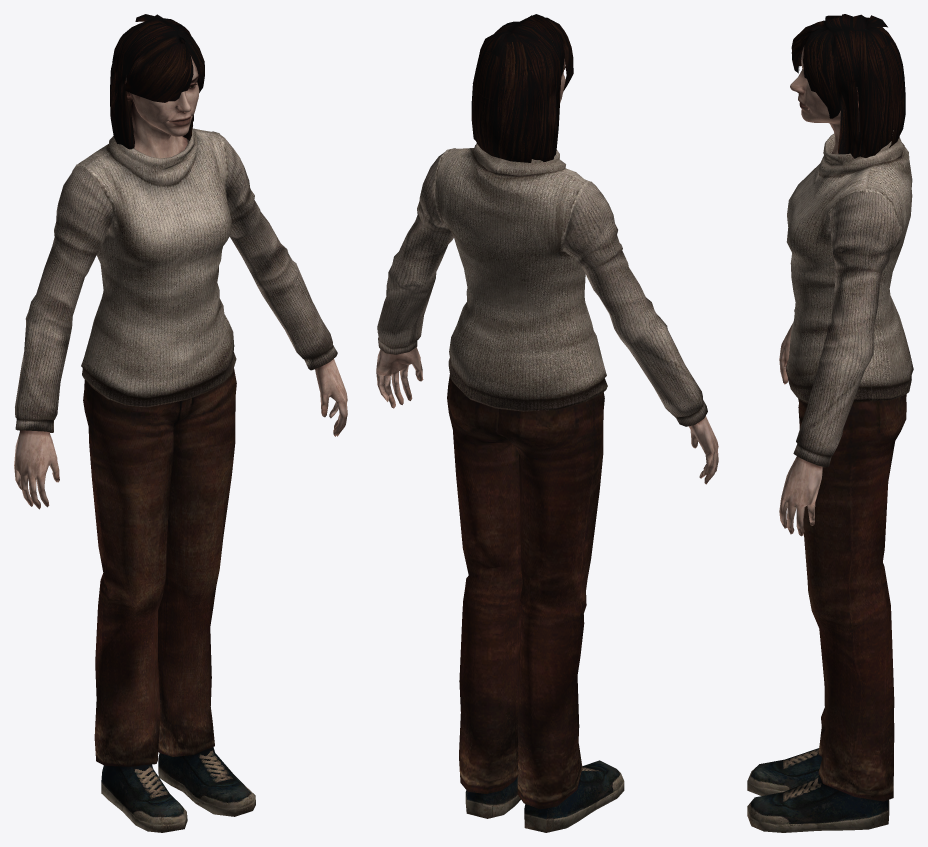
Rendered from Angela.fbx.
The picture shows the model from 3 angles, left to right: view 1: azimuth 30°, elevation 25°; view 2: azimuth 150°, elevation 25°; view 3: azimuth 270°, elevation 25°; orthographic projection. The views are drawn at different scales.
Visible parts, largest first — view 1: angelaobj.001; view 2: angelaobj.001; view 3: angelaobj.001.
Part boxes in pixels (bbox=[...]): angelaobj.001: bbox=[14, 14, 347, 832]; angelaobj.001: bbox=[376, 14, 718, 832]; angelaobj.001: bbox=[747, 14, 913, 832].
Bounding box in the file's own units: 75.52 × 169 × 32.29.
